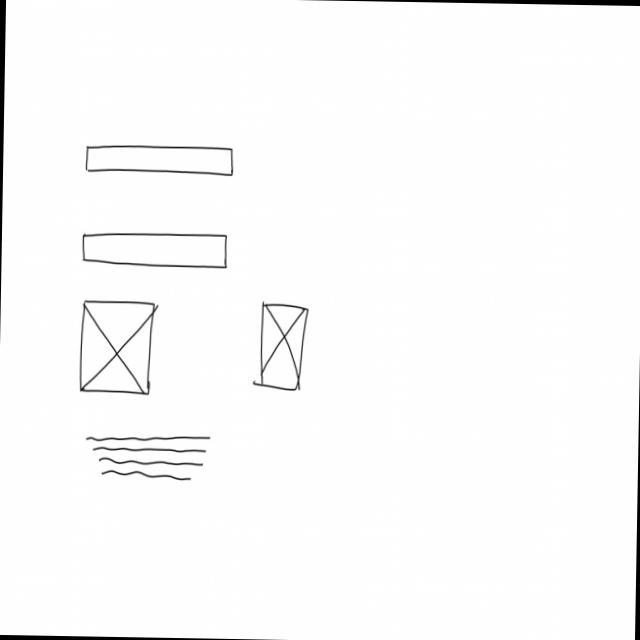container: (81, 230, 230, 272), (84, 140, 236, 178)
image: (78, 297, 155, 396), (256, 300, 309, 392)
textbox: (84, 432, 211, 482)
